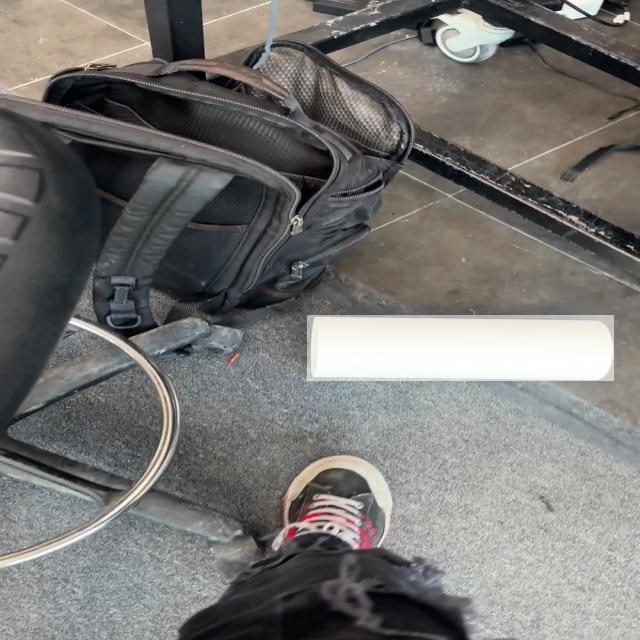Coral: (307, 315, 614, 381)
